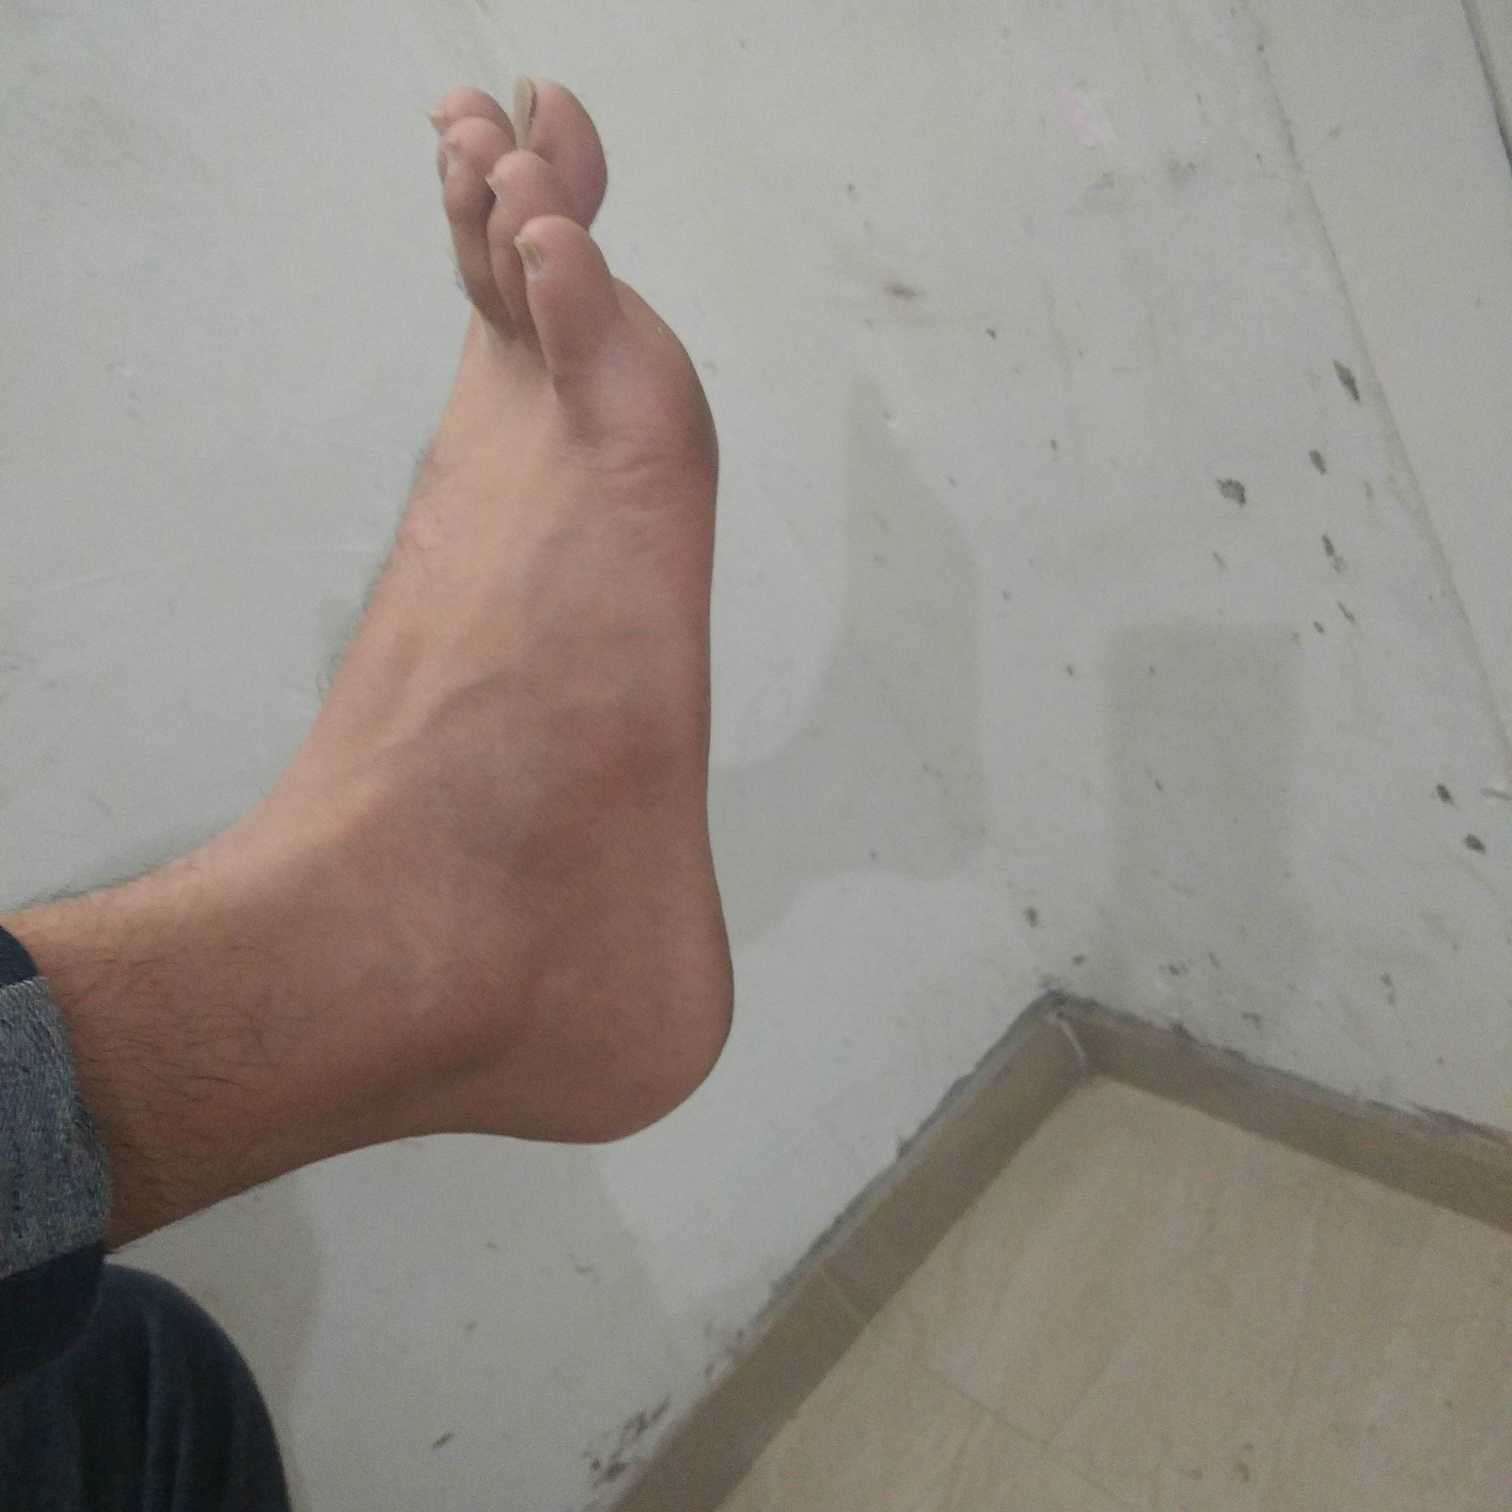foot: (331, 72, 744, 1151)
